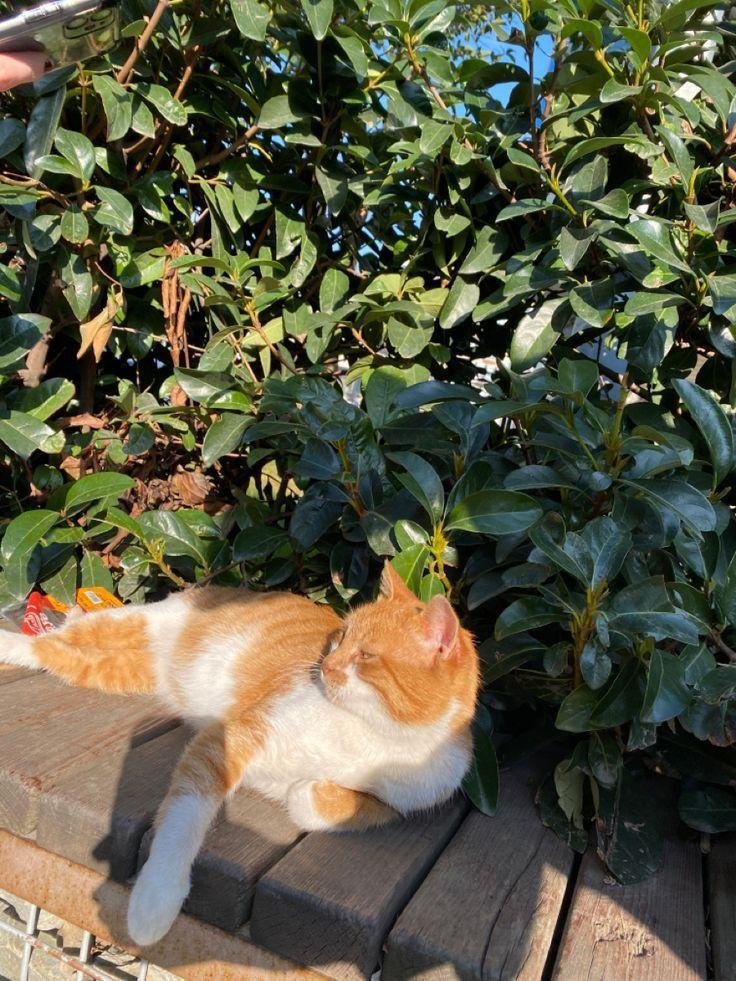kedo: (2, 550, 512, 950)
